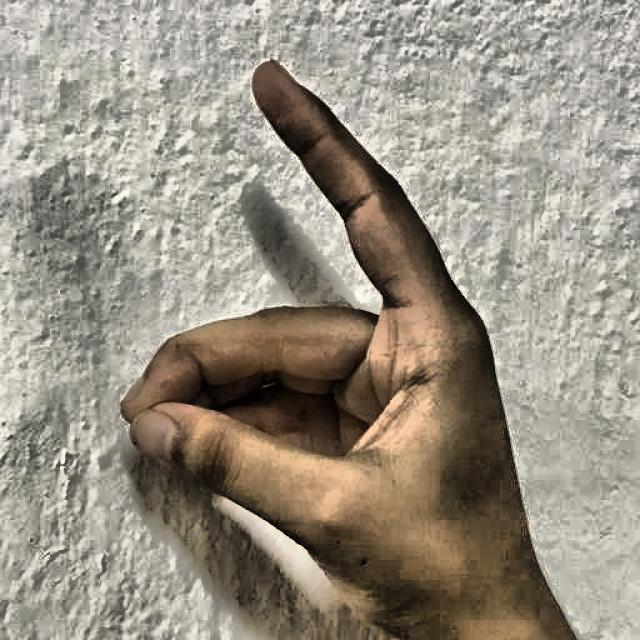Dha: (95, 42, 570, 640)
